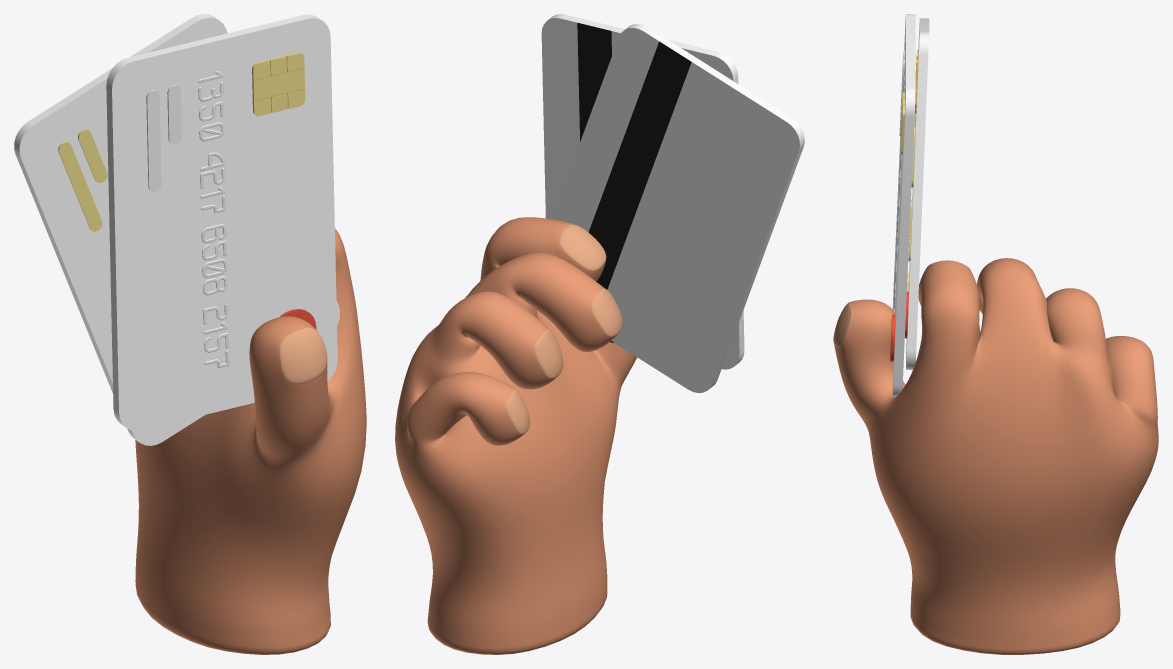
The model's file is credit-card-3d-animated-icon-667537773974.glb.
3 renders of one model, left to right at view 1: azimuth 30°, elevation 25°; view 2: azimuth 150°, elevation 25°; view 3: azimuth 270°, elevation 25°, orthographic. The views are drawn at different scales.
Visible parts, largest first — view 1: Plane, Vert.001, Plane.006, Plane.031, Plane.034, Plane.002; view 2: Vert.001, Plane.006, Plane; view 3: Vert.001, Plane, Plane.006.
Boxes of the visible parts, bbox=[...] form: Plane: bbox=[106, 14, 337, 430]; Vert.001: bbox=[135, 228, 366, 654]; Plane.006: bbox=[14, 14, 340, 445]; Plane.031: bbox=[146, 71, 229, 367]; Plane.034: bbox=[252, 52, 305, 116]; Plane.002: bbox=[58, 129, 107, 231]; Vert.001: bbox=[395, 217, 636, 654]; Plane.006: bbox=[552, 24, 804, 392]; Plane: bbox=[541, 14, 744, 369]; Vert.001: bbox=[833, 258, 1158, 654]; Plane: bbox=[892, 14, 915, 397]; Plane.006: bbox=[906, 18, 929, 369].
Size of the model in its own units: 1.27 by 2.19 by 1.16.
